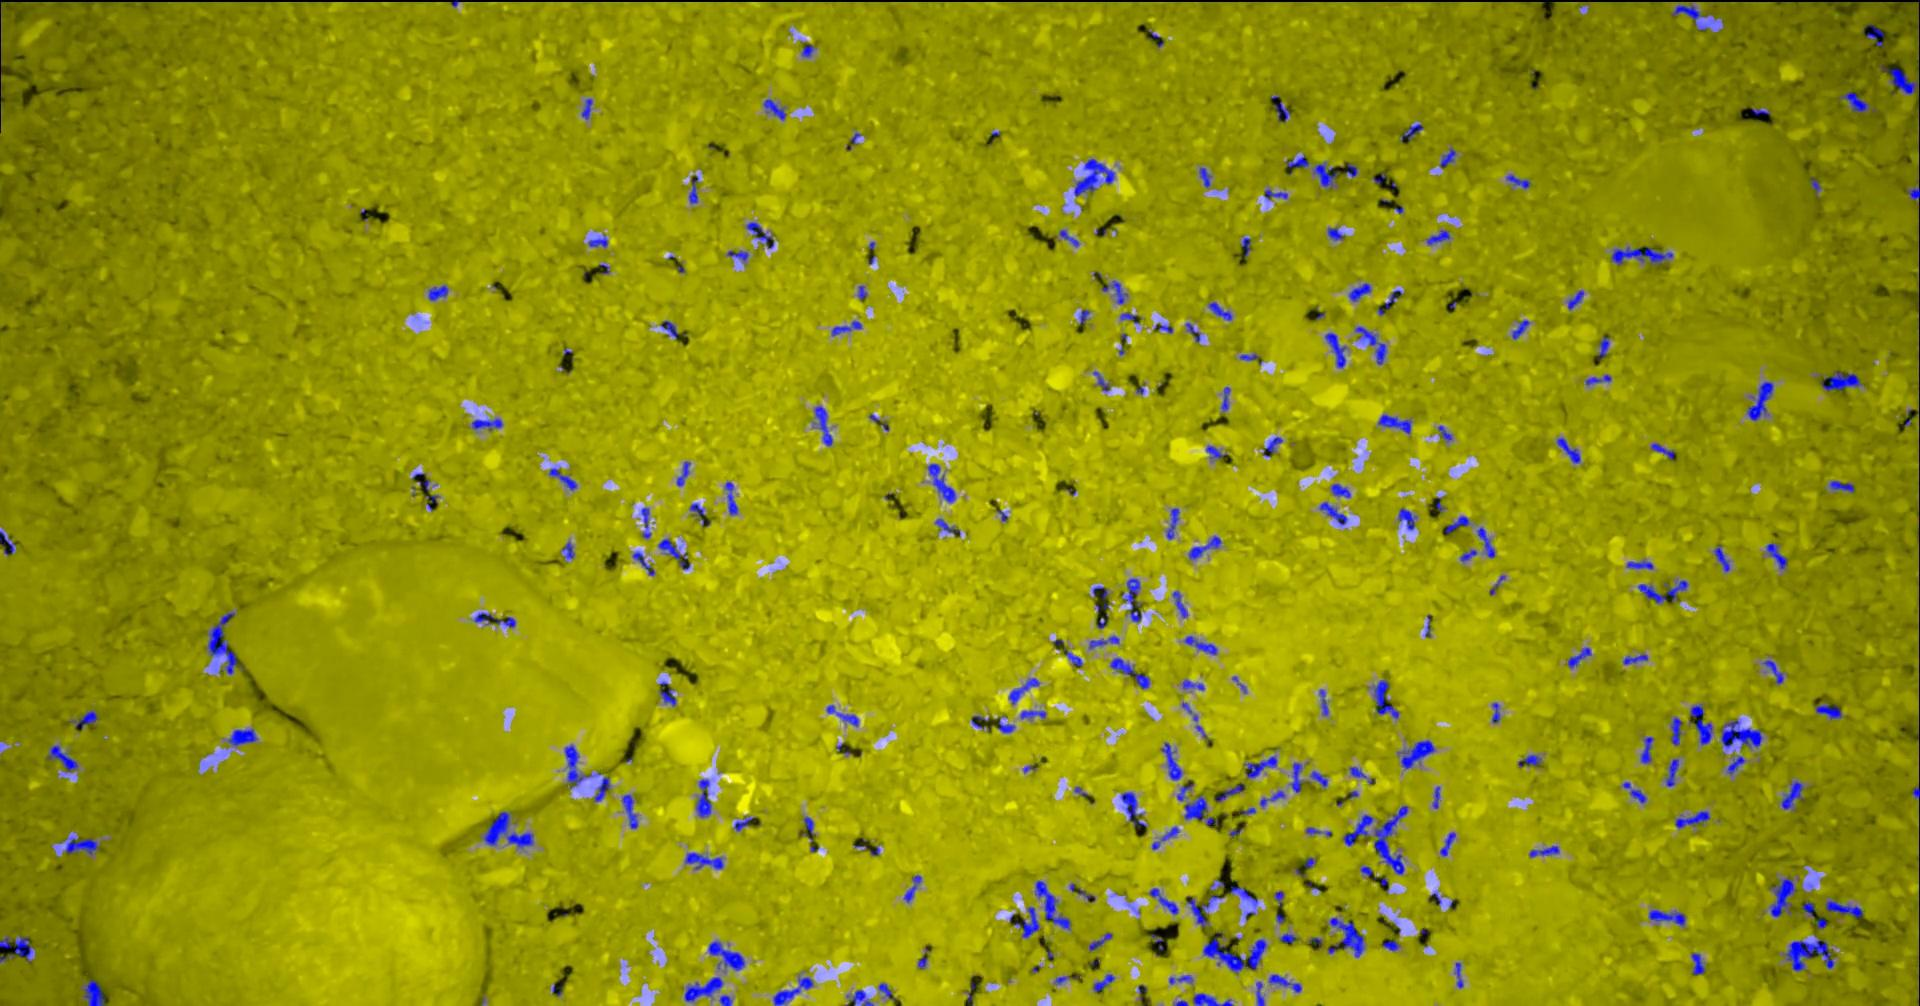ant: (1203, 931, 1266, 972), (1373, 805, 1407, 874), (1879, 46, 1919, 95), (207, 612, 237, 674), (483, 810, 532, 847), (1034, 880, 1070, 929), (1073, 158, 1114, 196), (1784, 939, 1832, 970), (1327, 917, 1364, 956), (1110, 657, 1149, 688), (1354, 326, 1385, 365), (1186, 895, 1224, 927), (772, 976, 813, 1005), (1637, 580, 1688, 603), (1719, 720, 1761, 747), (564, 744, 590, 786), (1610, 246, 1672, 264), (709, 940, 744, 970), (1397, 739, 1434, 768), (927, 464, 955, 502), (1746, 381, 1773, 420), (1769, 876, 1796, 916), (657, 539, 690, 569), (1183, 795, 1217, 826), (1373, 680, 1398, 718), (684, 976, 723, 1001), (1671, 4, 1707, 30), (1689, 702, 1710, 744), (1120, 791, 1145, 827), (1342, 814, 1371, 845), (1121, 578, 1142, 621), (1148, 887, 1177, 915), (1008, 677, 1039, 704), (46, 746, 77, 771), (0, 936, 32, 962), (1189, 535, 1222, 559), (1837, 91, 1876, 112), (1161, 742, 1181, 780), (1015, 906, 1039, 937), (1821, 371, 1860, 390), (745, 221, 773, 248), (1244, 754, 1276, 777), (1324, 332, 1345, 367), (814, 406, 832, 445), (1780, 780, 1803, 809), (472, 612, 516, 627), (1377, 414, 1411, 433), (1101, 279, 1128, 304), (1556, 437, 1580, 464), (1319, 500, 1346, 525), (549, 467, 577, 490), (1183, 635, 1217, 654), (695, 779, 711, 817), (684, 852, 723, 869), (1675, 810, 1709, 828), (63, 837, 98, 855), (1825, 901, 1862, 917), (801, 815, 818, 851), (1269, 974, 1302, 992), (1313, 163, 1337, 187), (1476, 527, 1495, 558), (621, 794, 637, 828), (1648, 909, 1685, 925), (1215, 782, 1244, 801), (1377, 290, 1399, 314), (631, 551, 654, 575), (1765, 542, 1787, 568), (83, 979, 104, 1005), (1230, 885, 1257, 906), (1622, 781, 1646, 803), (227, 728, 257, 746), (1192, 992, 1233, 1005), (69, 710, 97, 728), (1567, 647, 1591, 667), (1763, 659, 1783, 683), (1444, 514, 1469, 533), (903, 875, 921, 902), (1862, 24, 1883, 46), (763, 98, 785, 119), (830, 320, 861, 335), (1069, 883, 1095, 901), (1713, 545, 1730, 572), (690, 503, 710, 525), (1208, 301, 1230, 320), (1399, 123, 1423, 141), (724, 481, 737, 514), (1258, 790, 1284, 807), (1262, 436, 1283, 456), (1172, 591, 1187, 617), (1815, 704, 1841, 719), (1088, 932, 1111, 950), (846, 989, 872, 1005), (1528, 845, 1559, 857), (659, 681, 676, 705), (1439, 832, 1455, 856), (1288, 155, 1308, 174), (471, 418, 502, 431), (1650, 443, 1675, 459), (1166, 508, 1178, 539), (594, 776, 610, 801), (1349, 283, 1370, 301), (1398, 507, 1416, 528), (1092, 974, 1114, 992), (1088, 635, 1117, 648), (935, 518, 959, 533), (1511, 319, 1529, 339), (1176, 779, 1192, 800), (1505, 174, 1530, 188), (0, 530, 14, 555), (1641, 735, 1653, 763), (1665, 758, 1677, 786), (1290, 762, 1302, 793), (1059, 229, 1078, 246), (1426, 230, 1450, 244), (676, 461, 690, 485), (1272, 100, 1289, 121), (1670, 716, 1681, 746), (640, 507, 650, 539), (836, 713, 858, 727), (1691, 951, 1705, 974), (1439, 149, 1457, 166), (1726, 756, 1743, 774), (1567, 290, 1583, 309), (1092, 371, 1109, 390), (427, 285, 447, 300), (660, 320, 677, 338), (1585, 373, 1610, 385), (1829, 480, 1854, 492), (1622, 653, 1647, 664), (1595, 337, 1609, 357), (1205, 445, 1225, 459), (1330, 483, 1350, 497), (877, 982, 894, 998), (1185, 323, 1199, 342), (734, 815, 753, 829), (1517, 754, 1540, 766), (1199, 166, 1211, 187), (1064, 650, 1081, 666), (1310, 771, 1327, 786), (688, 175, 697, 203), (1161, 826, 1178, 840), (1263, 189, 1288, 199), (1168, 974, 1192, 984), (1625, 560, 1652, 569), (1454, 962, 1463, 987), (582, 98, 592, 119), (726, 250, 748, 260), (588, 235, 607, 246), (1255, 981, 1263, 1005), (1801, 901, 1815, 916), (1327, 227, 1343, 240), (1319, 688, 1327, 715), (997, 720, 1015, 732), (1437, 426, 1451, 439), (1460, 549, 1476, 561), (1020, 710, 1045, 718), (1241, 235, 1250, 257), (1182, 680, 1204, 688), (563, 541, 574, 558), (1349, 766, 1365, 777), (1222, 386, 1229, 410), (1382, 940, 1399, 950), (1345, 163, 1357, 177), (1279, 932, 1295, 942), (1906, 187, 1919, 199), (801, 44, 813, 57), (1491, 702, 1498, 721), (717, 995, 731, 1005), (1432, 786, 1439, 808)
